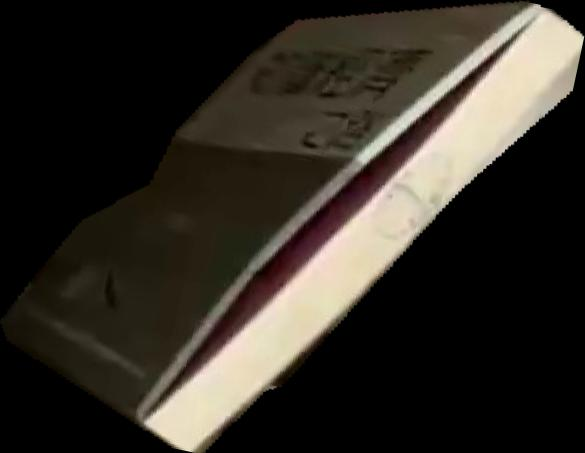backward: (1, 1, 585, 453)
